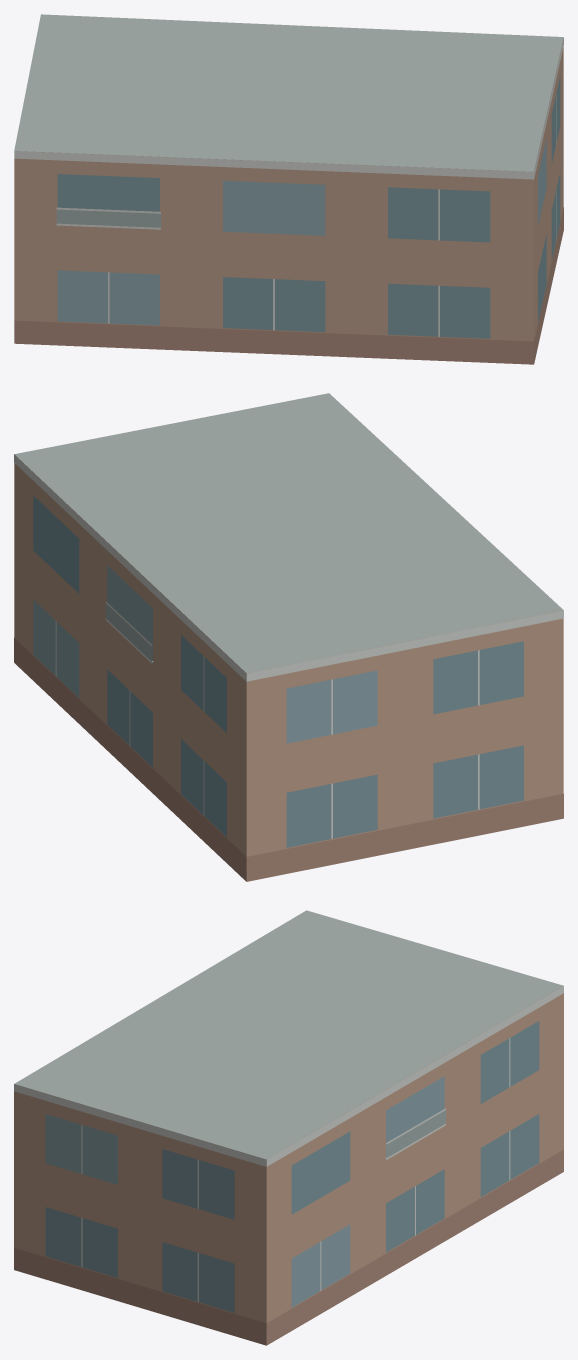
Rendered from survey-upis-32540212.glb.
The picture shows the model from 3 angles, top to bottom: view 1: azimuth 30°, elevation 25°; view 2: azimuth 150°, elevation 25°; view 3: azimuth 270°, elevation 25°; orthographic projection. The views are drawn at different scales.
Parts seen in each view (by area): view 1: survey-upis-32540212.tmp; view 2: survey-upis-32540212.tmp; view 3: survey-upis-32540212.tmp.
Boxes of the visible parts, x1,y1,x2,y2 form: survey-upis-32540212.tmp: (14, 14, 563, 364); survey-upis-32540212.tmp: (14, 393, 563, 881); survey-upis-32540212.tmp: (14, 910, 563, 1345).
Size of the model in its own units: 17.53 by 6.1 by 16.34.
